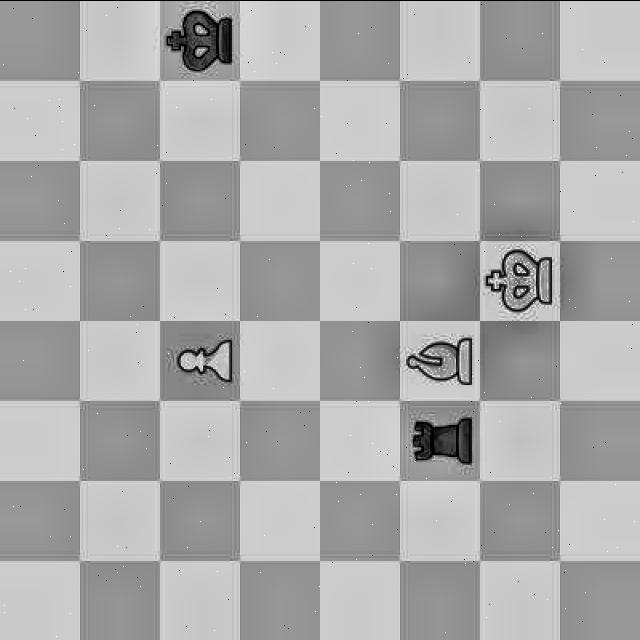black king: (160, 4, 240, 76)
black rook: (411, 413, 482, 469)
white bishop: (402, 332, 474, 394)
white king: (484, 248, 562, 314)
white pawn: (168, 332, 234, 396)
